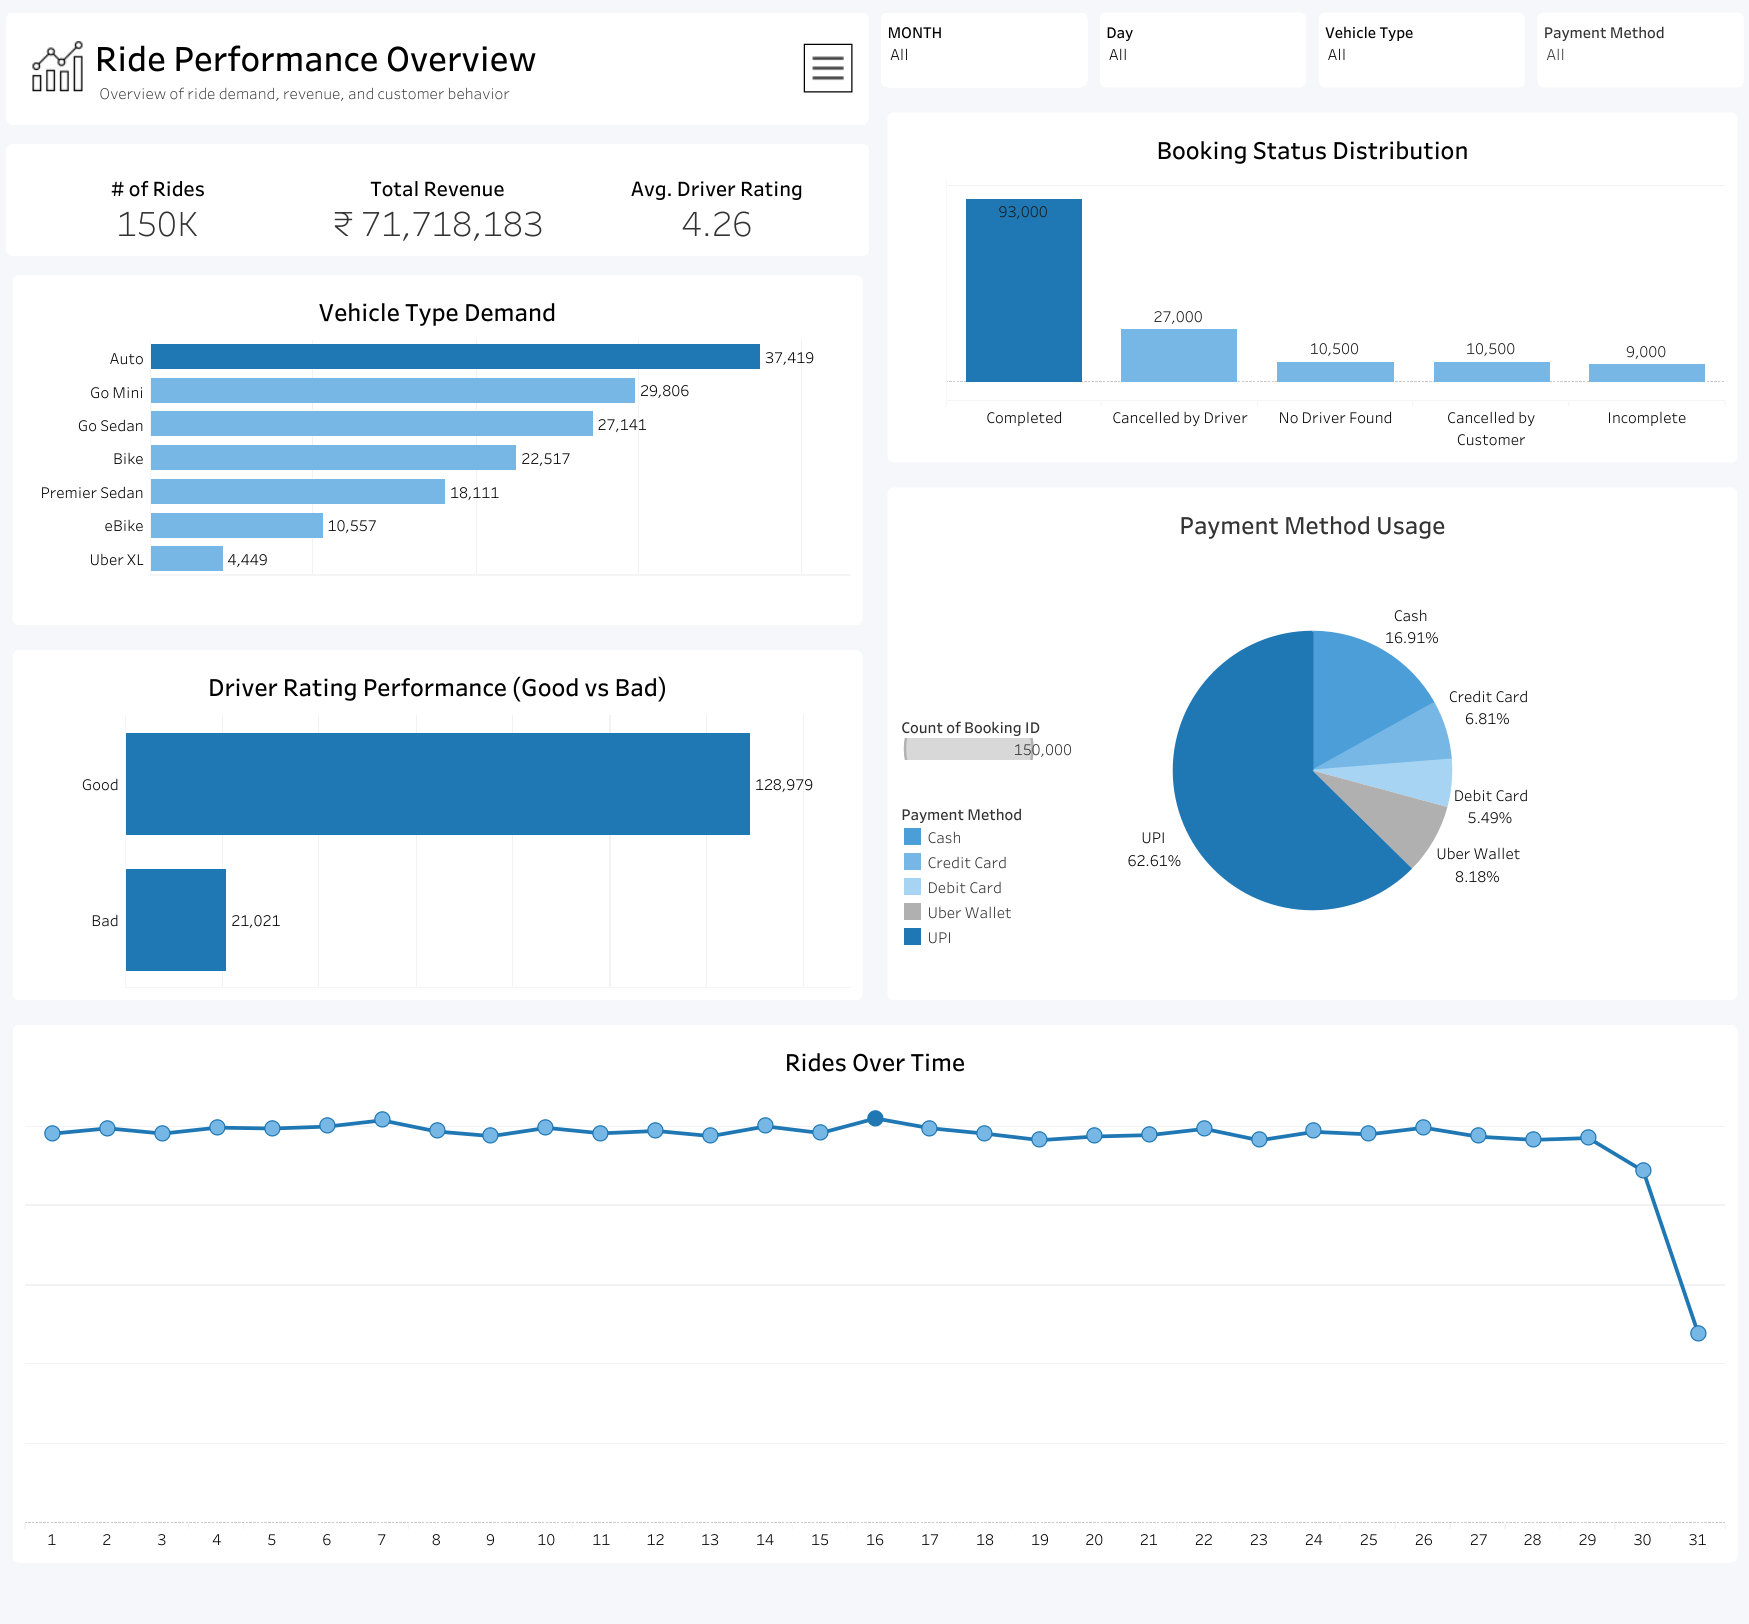

The page's visual inventory and layout, read from the dashboard file:
{"tool":"tableau","page":{"name":"Ride Performance Overview-D1","canvas":[1400,1300],"ordinal":3},"visuals":[{"type":"text","box":[0,5,700,100]},{"type":"filter","title":"Rides Over Time-D1","param":"[federated.0se9qb00quoxq71br9lkd1jezced].[mn:Date:ok]","box":[700,5,175,70]},{"type":"filter","title":"Booking Status Distribution-D1","param":"[federated.0se9qb00quoxq71br9lkd1jezced].[none:Day:nk]","box":[875,5,175,70]},{"type":"filter","title":"Vehicle Type Demand-D1","param":"[federated.0se9qb00quoxq71br9lkd1jezced].[none:Vehicle Type:nk]","box":[1050,5,175,70]},{"type":"filter","title":"Payment Method Usage-D1","param":"[federated.0se9qb00quoxq71br9lkd1jezced].[none:Payment Method:nk]","box":[1225,5,175,70]},{"type":"image","param":"Image/bar-chart.png","box":[24,26,50,50]},{"type":"dashboard-object","box":[266,29,65,63]},{"type":"dashboard-object","box":[331,29,303,63]},{"type":"dashboard-object","box":[640,32,45,45]},{"type":"worksheet","title":"Booking Status Distribution-D1","mark":"Bar","rows":["Booking ID"],"cols":["Booking Status"],"box":[700,80,700,300]},{"type":"dashboard-object","box":[266,92,65,62]},{"type":"dashboard-object","box":[331,92,303,62]},{"type":"worksheet","title":"Dashboard1-KPIs","mark":"Automatic","box":[0,110,700,100]},{"type":"dashboard-object","box":[266,154,65,62]},{"type":"dashboard-object","box":[331,154,303,62]},{"type":"worksheet","title":"Vehicle Type Demand-D1","mark":"Automatic","rows":["Vehicle Type"],"cols":["Booking ID"],"box":[0,210,700,300]},{"type":"worksheet","title":"Payment Method Usage-D1","mark":"Pie","box":[700,380,700,430]},{"type":"worksheet","title":"Driver Rating Performance (Good vs Bad)-D1","mark":"Bar","rows":["Driver Rating Type"],"cols":["Booking ID"],"box":[0,510,700,300]},{"type":"legend","title":"Payment Method Usage-D1","param":"[federated.0se9qb00quoxq71br9lkd1jezced].[cnt:Booking ID:qk]","box":[720,570,140,55]},{"type":"legend","title":"Payment Method Usage-D1","param":"[federated.0se9qb00quoxq71br9lkd1jezced].[none:Payment Method:nk]","box":[720,640,140,130]},{"type":"worksheet","title":"Rides Over Time-D1","mark":"Line","rows":["Booking ID","Booking ID"],"cols":["Date"],"box":[0,810,1400,450]}]}

Visuals, with their boxes in screenshot pixels (x1, y1, x2, y2), scaled from the page's 1400x1300 canvas onto the 1749x1624 screenshot:
text: (0,6,874,131)
"Rides Over Time-D1" filter: (874,6,1093,94)
"Booking Status Distribution-D1" filter: (1093,6,1312,94)
"Vehicle Type Demand-D1" filter: (1312,6,1530,94)
"Payment Method Usage-D1" filter: (1530,6,1748,94)
image: (30,32,92,95)
dashboard-object: (332,36,414,115)
dashboard-object: (414,36,792,115)
dashboard-object: (800,40,856,96)
"Booking Status Distribution-D1" worksheet (Bar marks): (874,100,1748,475)
dashboard-object: (332,115,414,192)
dashboard-object: (414,115,792,192)
"Dashboard1-KPIs" worksheet: (0,137,874,262)
dashboard-object: (332,192,414,270)
dashboard-object: (414,192,792,270)
"Vehicle Type Demand-D1" worksheet: (0,262,874,637)
"Payment Method Usage-D1" worksheet (Pie marks): (874,475,1748,1012)
"Driver Rating Performance (Good vs Bad)-D1" worksheet (Bar marks): (0,637,874,1012)
"Payment Method Usage-D1" legend: (899,712,1074,781)
"Payment Method Usage-D1" legend: (899,800,1074,962)
"Rides Over Time-D1" worksheet (Line marks): (0,1012,1748,1574)
